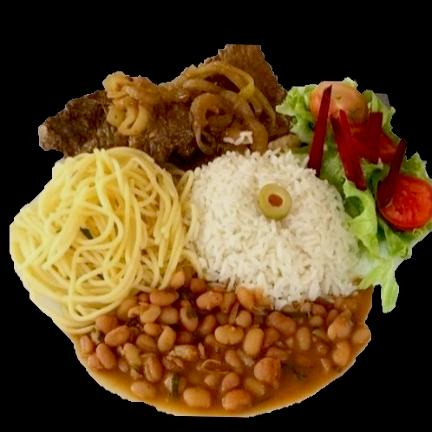beans: (72, 268, 375, 413)
meat: (36, 43, 297, 174)
pasta: (9, 150, 197, 329)
rice: (194, 149, 369, 311)
salad: (283, 83, 430, 310)
